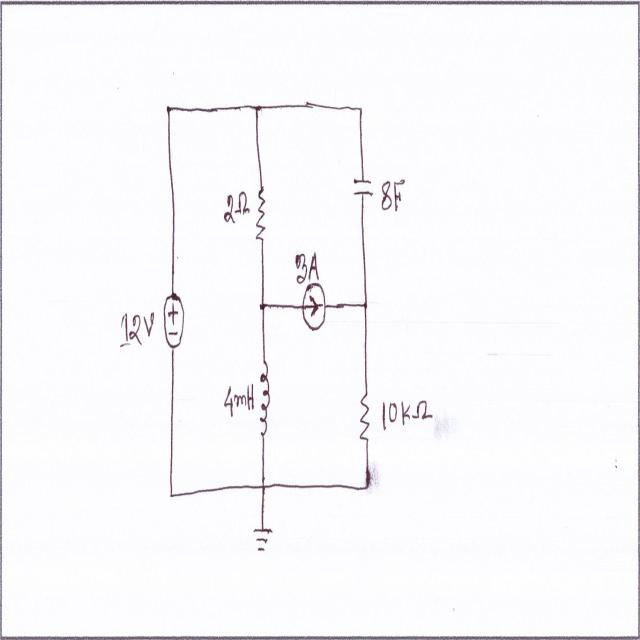capacitor: (352, 178, 374, 201)
current_source: (302, 279, 326, 332)
ground: (253, 523, 274, 554)
inductor: (258, 356, 273, 438)
resistor: (256, 182, 268, 249), (358, 392, 372, 444)
voltage_source: (161, 290, 186, 354)
